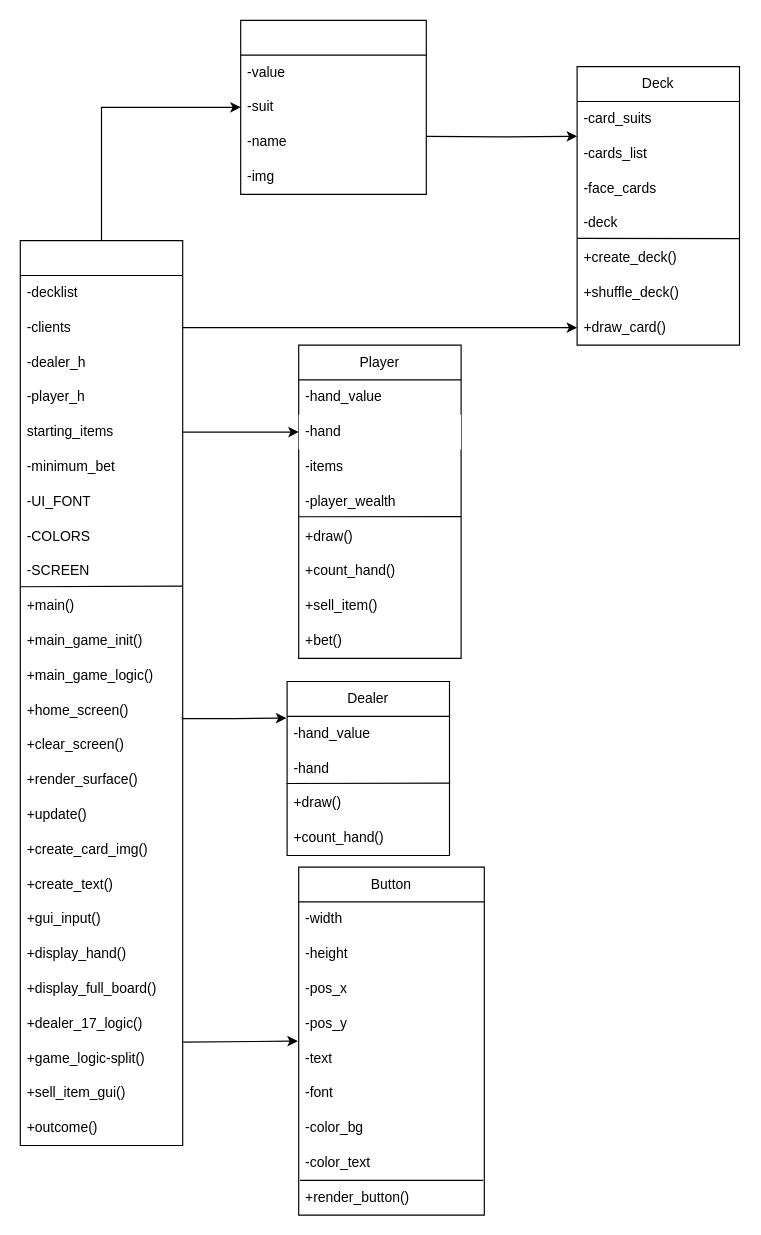
Some shapes in this 761 by 1235 pixel diagram are drawn without their labels. The shapes that lost their labels are listed below. From the top down, each one's box as (x1, y1, x2, y2) in pixels, then its label:
(240, 19, 426, 194): Card
(19, 240, 183, 1146): guiMain
